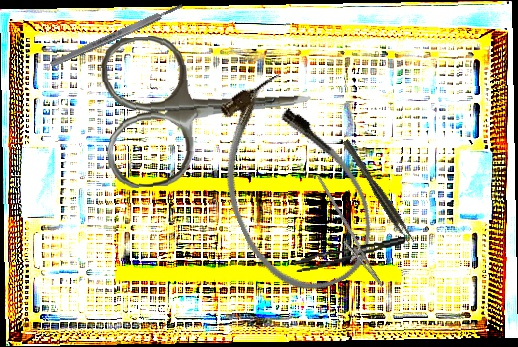Cannula: (189, 62, 393, 310)
Iris Scissors: (98, 25, 318, 190)
Needle Holder: (297, 174, 396, 294)
Scalpel Handle: (48, 1, 185, 69)
Tissue Forceps: (342, 136, 416, 247), (292, 236, 408, 273)
